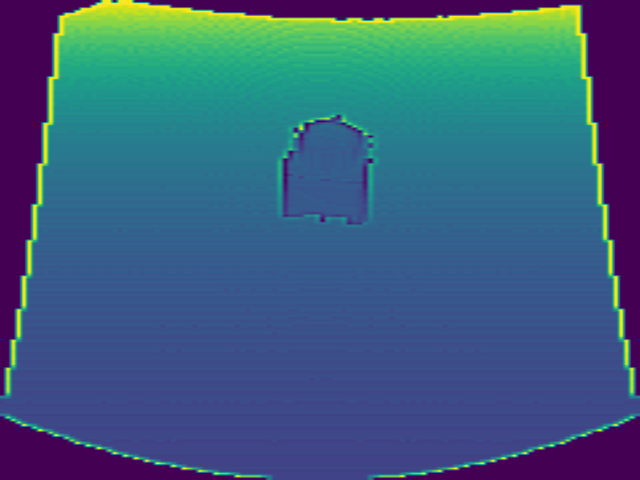car_0027: (276, 115, 377, 228)
